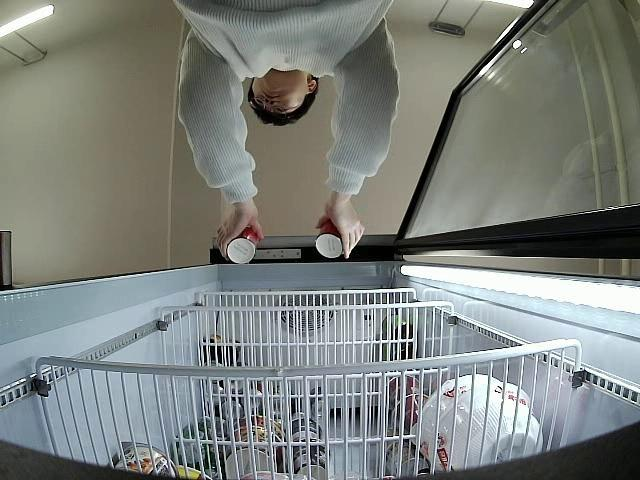02_shinRamen_S: (228, 226, 258, 264), (314, 222, 344, 258)
